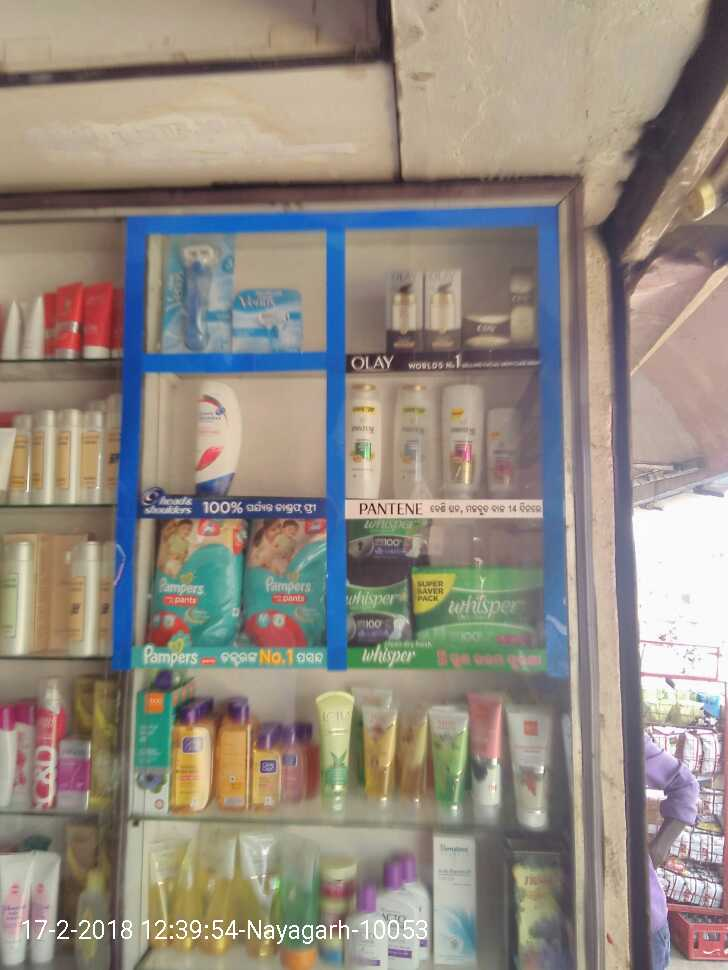venus: (164, 231, 233, 350), (234, 289, 303, 350)
